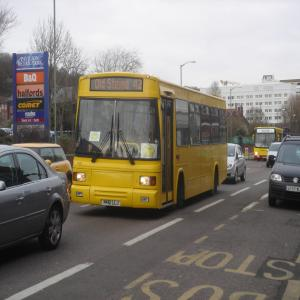Vehicle-registration-plate: (102, 200, 122, 208), (287, 186, 300, 194)
